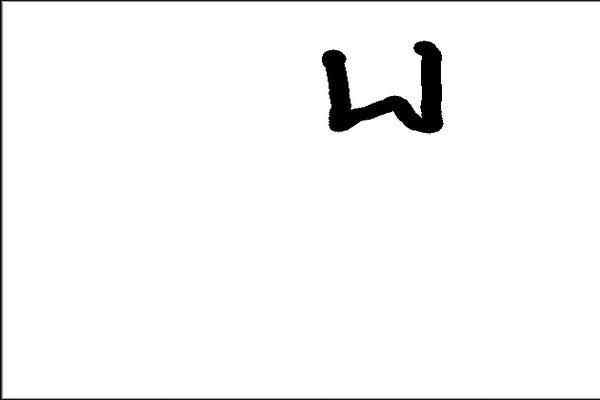w: (306, 39, 455, 139)
